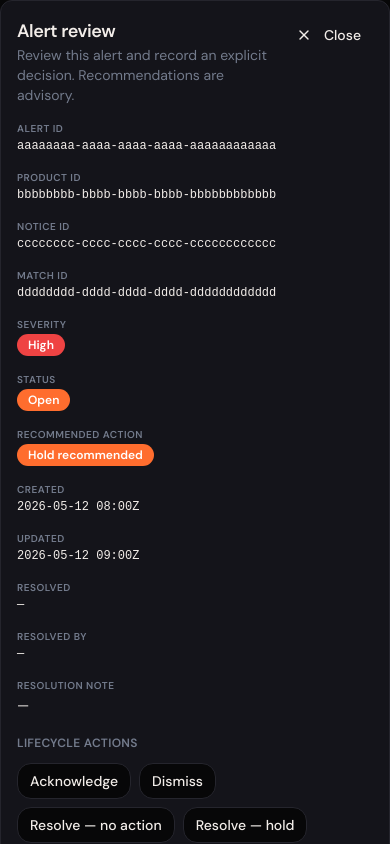
Test: RegulatoryAlertDetailPanel — mutation feedback › shows the mutation error message
Click the button with test id "regulatory-action-acknowledge".
click(74, 781)  # box [17,763,131,799]
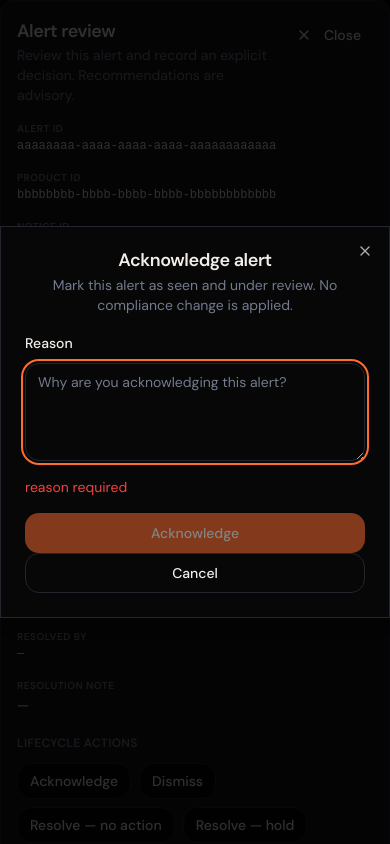
expect the message with test id "regulatory-resolution-error" reads "reason required": met, box [25,478,127,496]
